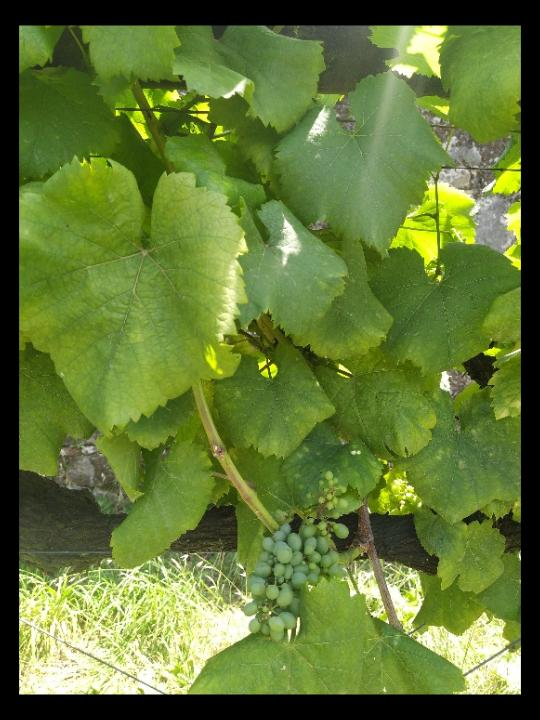grape: (241, 516, 346, 644)
